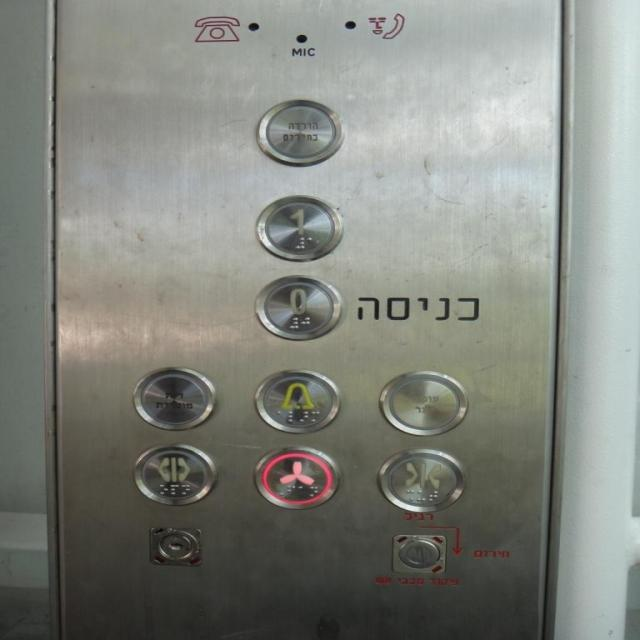0: (252, 270, 342, 340)
1: (254, 193, 344, 263)
alarm: (252, 366, 342, 436)
close: (374, 444, 467, 514)
fan: (249, 441, 341, 513)
keyhole: (145, 524, 206, 570), (389, 530, 450, 576)
open: (130, 438, 220, 508)
text: (254, 96, 344, 170), (128, 362, 220, 434), (376, 367, 467, 439)
